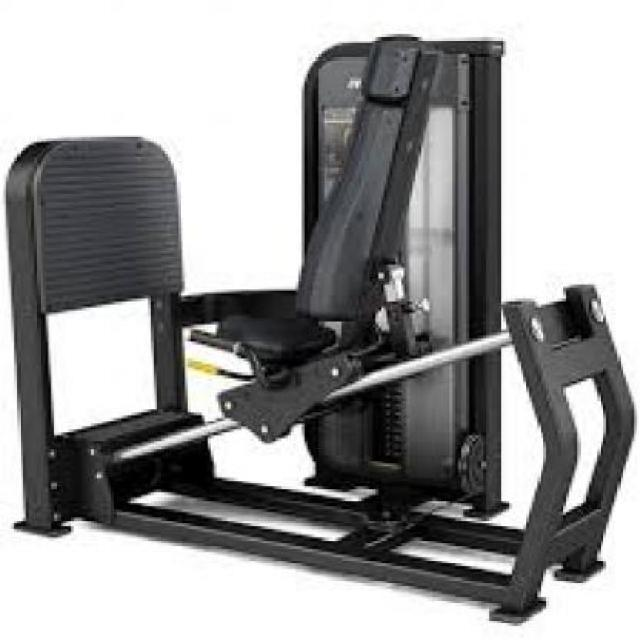leg press: (0, 22, 640, 630)
